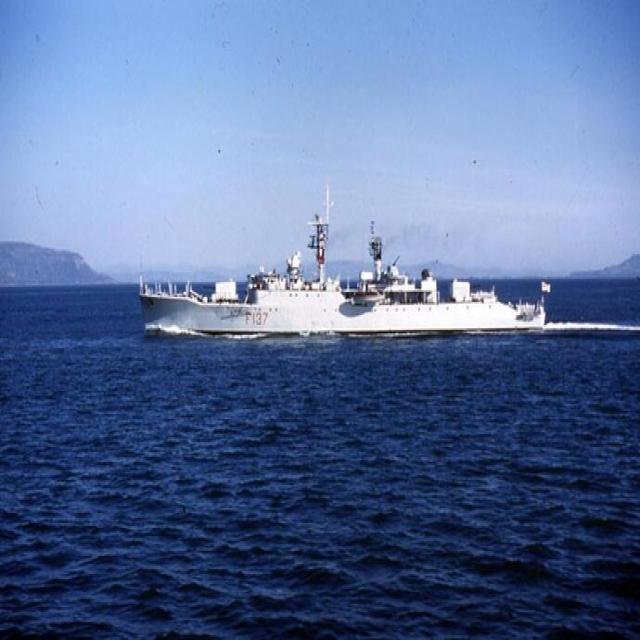Frigate-Brahmaputra-Class-IND: (135, 185, 552, 340)
